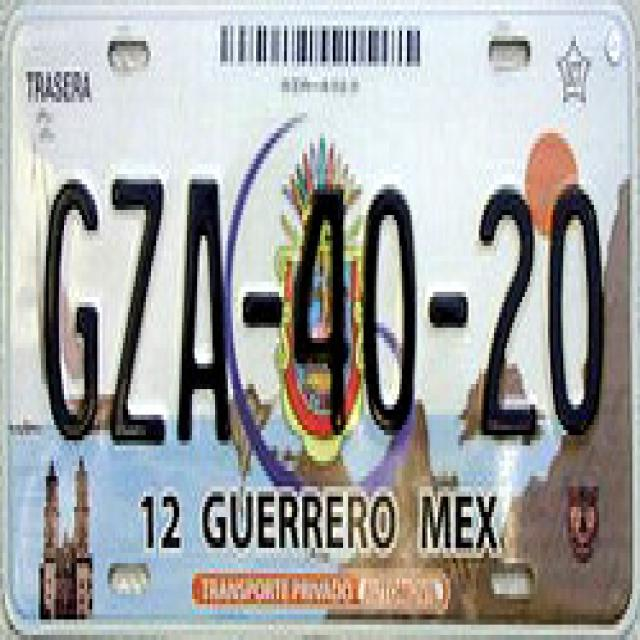placa: (4, 141, 636, 482)
